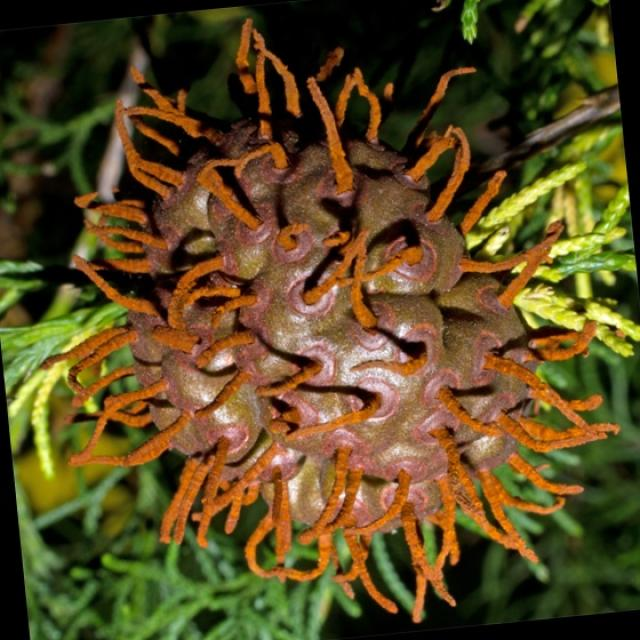Gymnosporangium_Rusts: (41, 17, 621, 623)
